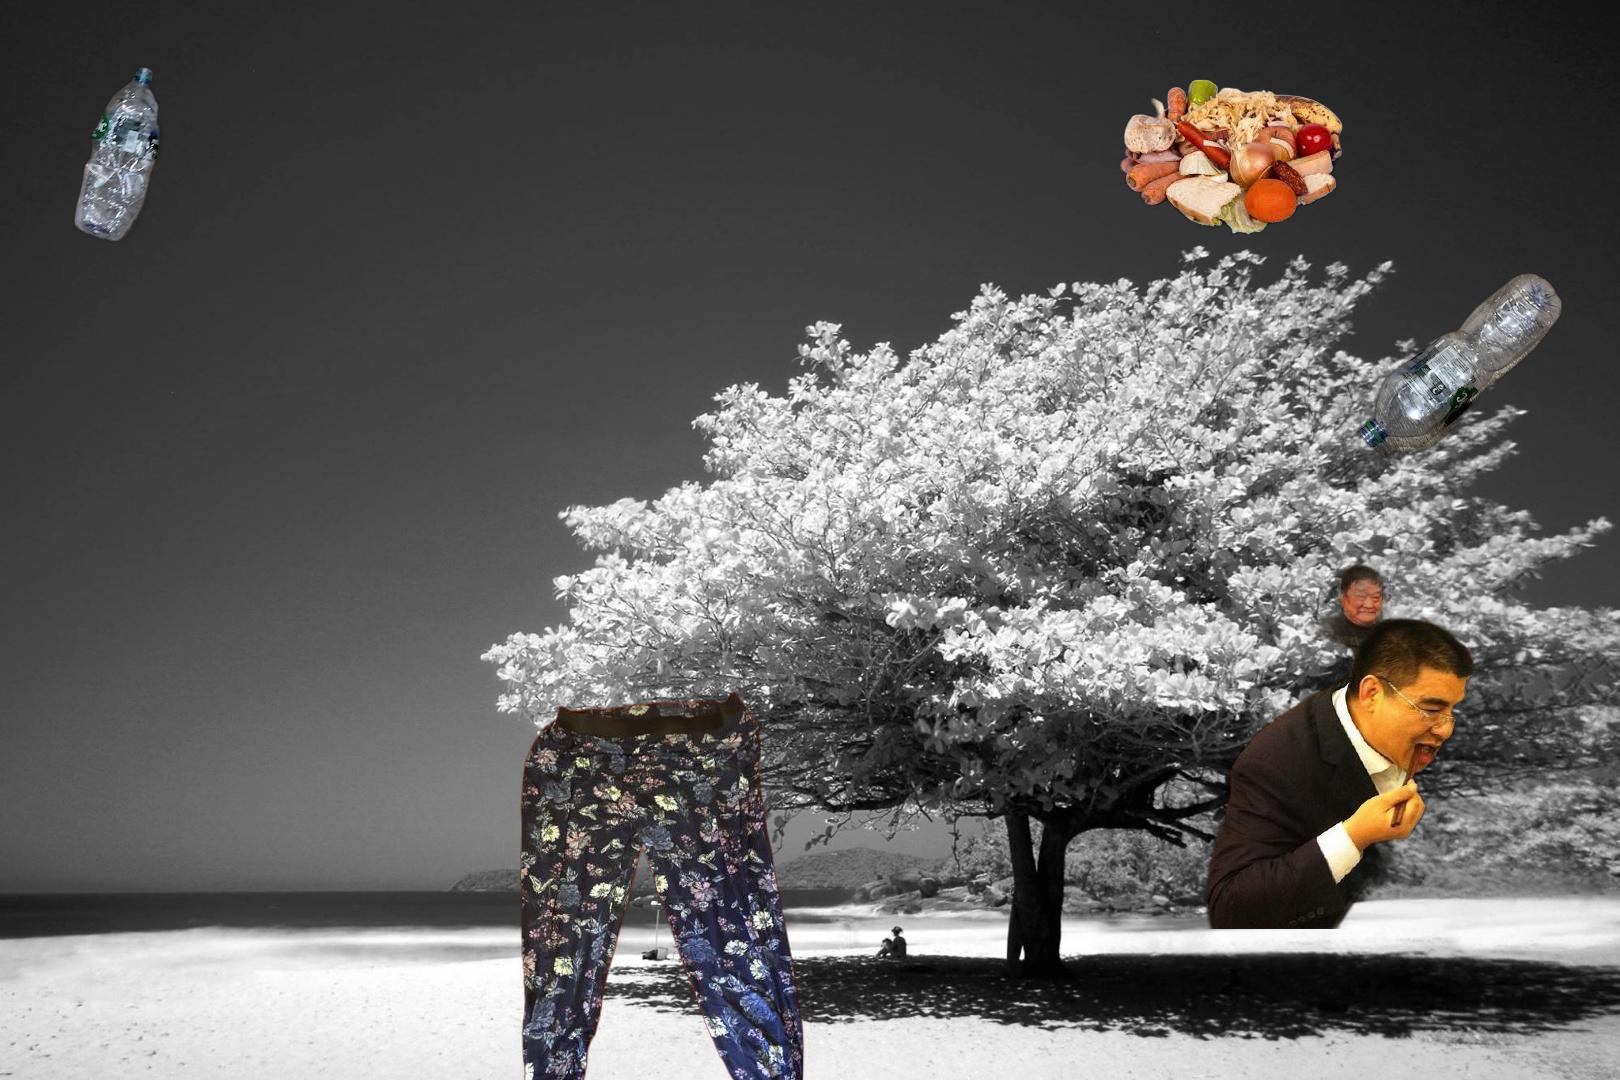biological: (1201, 554, 1620, 929), (1119, 77, 1346, 239)
clothes: (518, 646, 863, 1080)
plastic-bottles: (1355, 269, 1565, 462), (72, 63, 166, 246)
